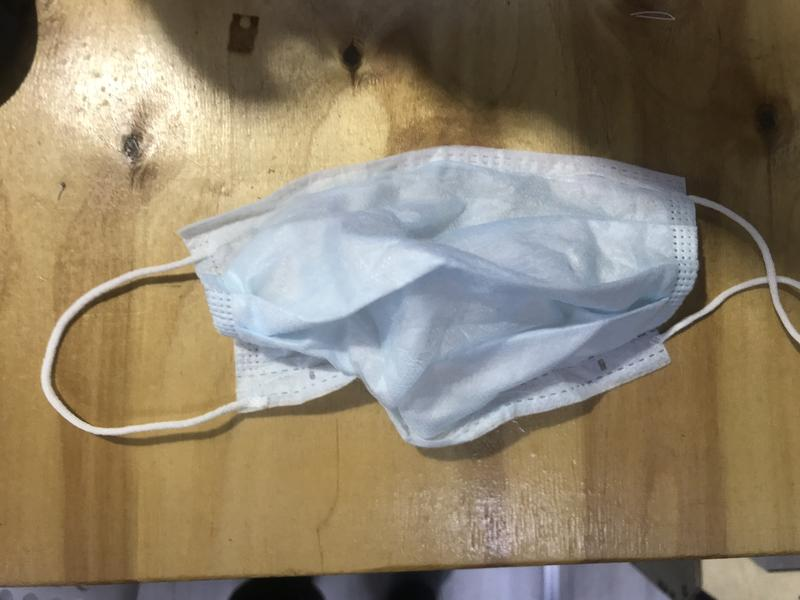medical_mask: (41, 142, 800, 439)
